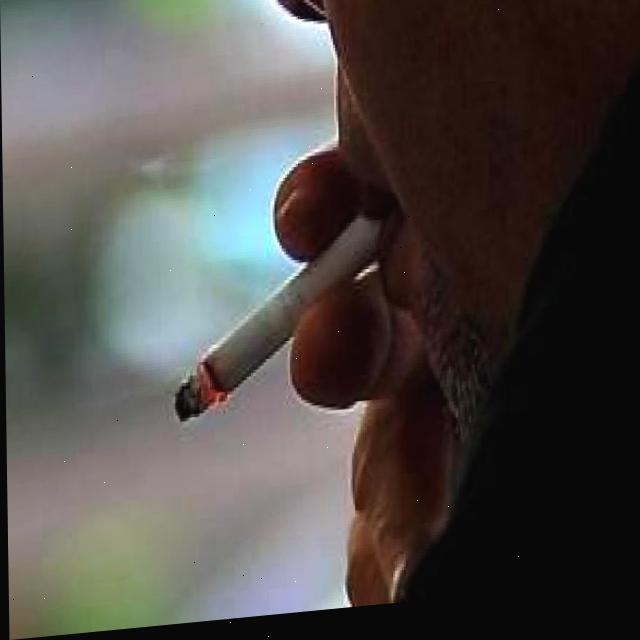cigarette: (172, 222, 380, 423)
